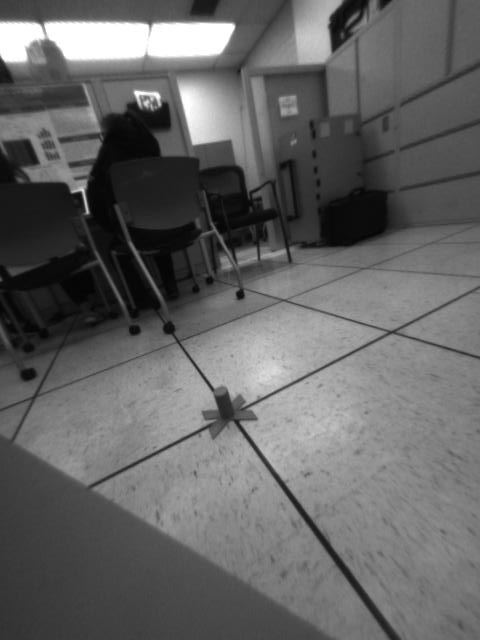X: (199, 385, 258, 440)
